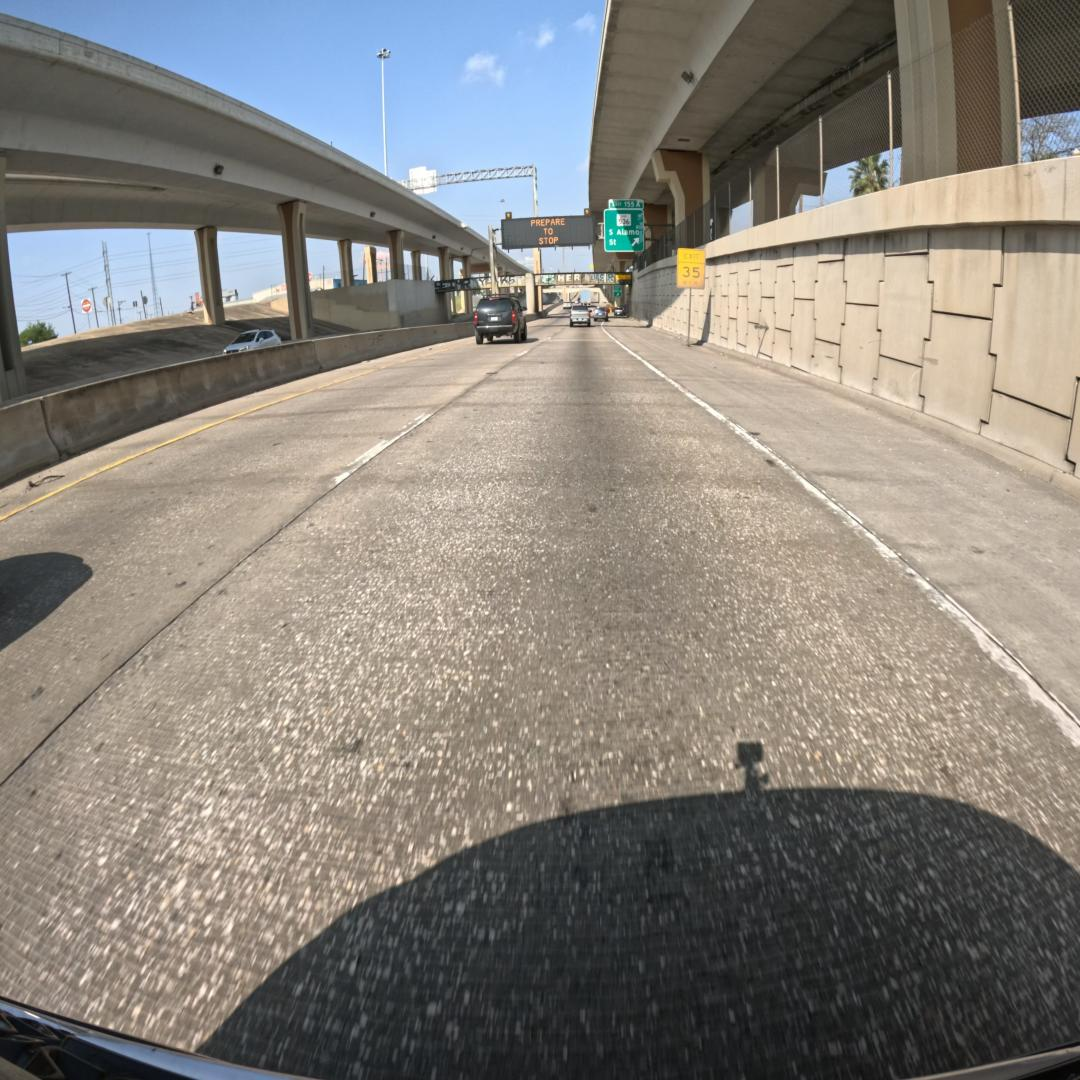lane0: (0, 328, 1080, 1077)
lane1: (0, 346, 522, 783)
